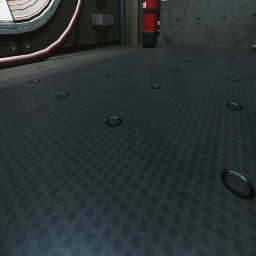FireExtinguisher ]: (142, 0, 161, 48)
